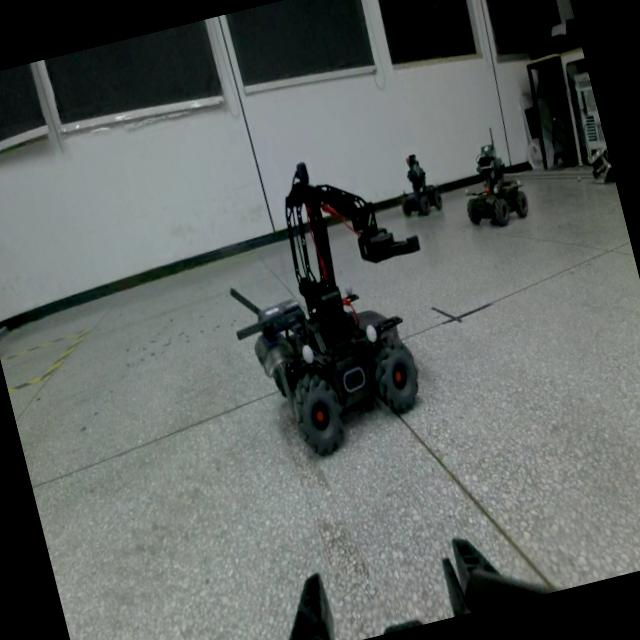ep: (195, 138, 464, 472)
s1: (448, 123, 534, 234), (387, 140, 448, 229)
